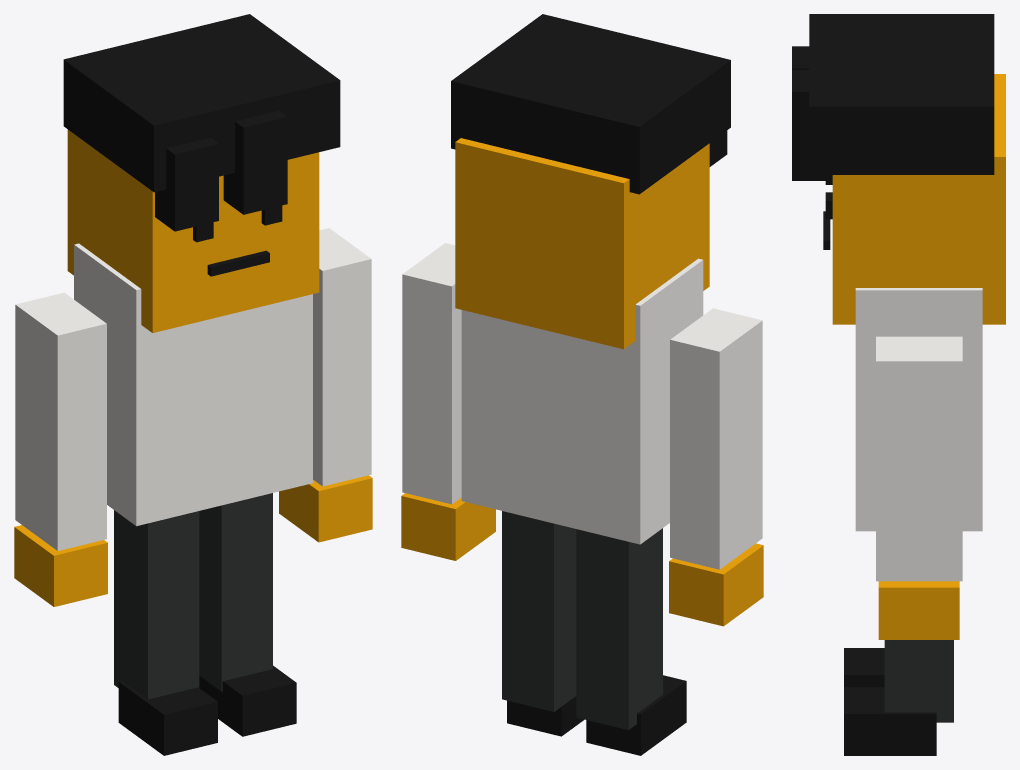
File: person_block.glb
The picture shows the model from 3 angles, left to right: view 1: azimuth 30°, elevation 25°; view 2: azimuth 150°, elevation 25°; view 3: azimuth 270°, elevation 25°; orthographic projection. The views are drawn at different scales.
Visible parts, largest first — view 1: person torso white hoodie, person hair block, person head, person left arm, person left leg, person right arm, person right leg, person hair fringe 2, person left hand, person shoes left, person hair fringe 1, person right hand (+2 smaller); view 2: person torso white hoodie, person head, person hair block, person left arm, person left leg, person right arm, person right leg, person left hand, person right hand, person shoes left, person shoes right; view 3: person hair block, person head, person right arm, person torso white hoodie, person right leg, person shoes right, person right hand, person hair fringe 2, person shoes left, person hair fringe 1.
Part boxes in pixels (left/top/right/bottom): person torso white hoodie: left=74, top=243, right=312, bottom=526; person hair block: left=63, top=14, right=340, bottom=192; person head: left=67, top=129, right=319, bottom=332; person left arm: left=15, top=292, right=106, bottom=550; person left leg: left=114, top=510, right=199, bottom=699; person right arm: left=313, top=228, right=371, bottom=486; person right leg: left=199, top=493, right=272, bottom=691; person hair fringe 2: left=223, top=111, right=287, bottom=214; person left hand: left=14, top=525, right=107, bottom=606; person shoes left: left=118, top=681, right=217, bottom=755; person hair fringe 1: left=155, top=137, right=218, bottom=231; person right hand: left=279, top=475, right=372, bottom=542; person torso white hoodie: left=461, top=258, right=703, bottom=544; person head: left=455, top=138, right=709, bottom=349; person hair block: left=451, top=14, right=730, bottom=194; person left arm: left=670, top=308, right=762, bottom=569; person left leg: left=576, top=528, right=662, bottom=729; person right arm: left=402, top=243, right=461, bottom=504; person right leg: left=502, top=511, right=576, bottom=711; person left hand: left=669, top=543, right=763, bottom=626; person right hand: left=401, top=493, right=495, bottom=560; person shoes left: left=586, top=675, right=686, bottom=755; person shoes right: left=507, top=696, right=584, bottom=736; person hair block: left=809, top=14, right=994, bottom=174; person head: left=832, top=74, right=1005, bottom=324; person right arm: left=876, top=336, right=962, bottom=581; person torso white hoodie: left=855, top=288, right=982, bottom=531; person right leg: left=884, top=640, right=953, bottom=722; person shoes right: left=844, top=687, right=936, bottom=755; person right hand: left=878, top=581, right=959, bottom=639; person hair fringe 2: left=792, top=70, right=832, bottom=180; person shoes left: left=844, top=648, right=884, bottom=687; person hair fringe 1: left=792, top=46, right=809, bottom=69.
Size of the model in its own units: 0.65 by 1.27 by 0.37.
